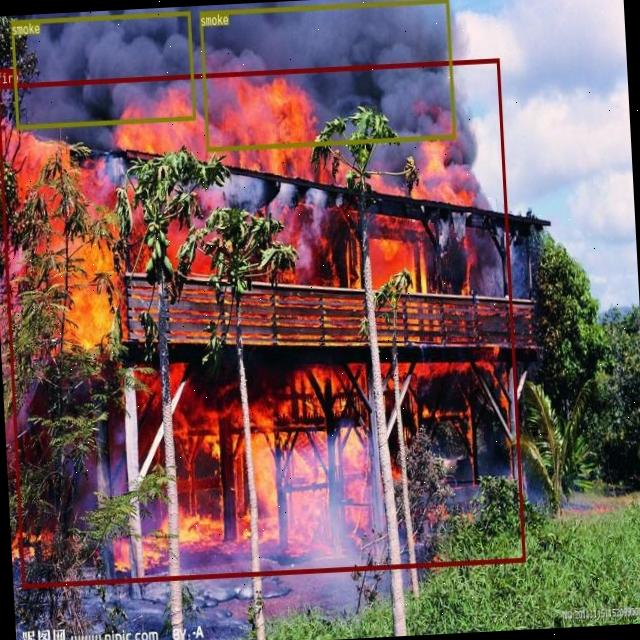fire: (0, 58, 525, 588)
smoke: (199, 0, 455, 151), (11, 10, 195, 128)
